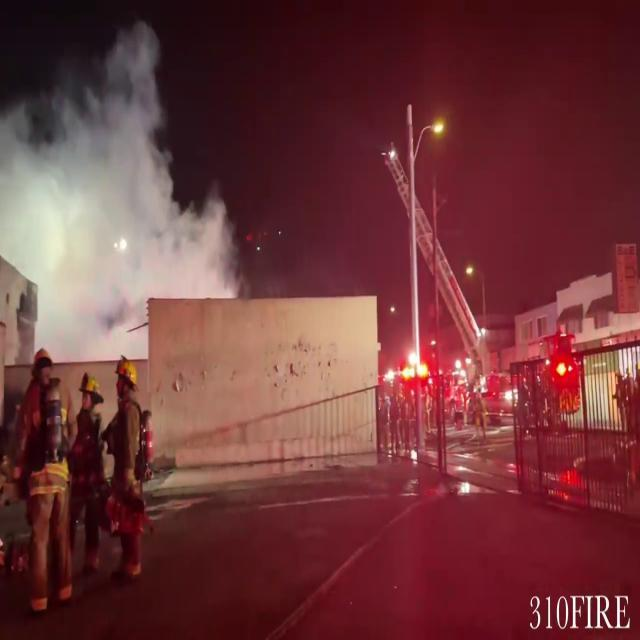Smoke: (0, 15, 252, 333)
